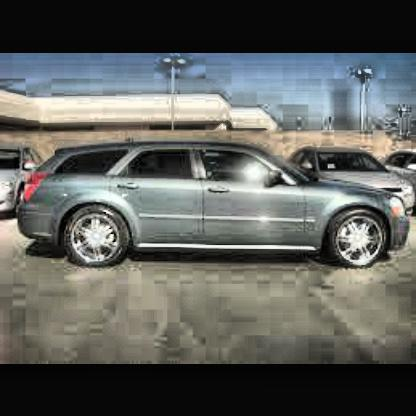Dodge Magnum Wagon 2008: (14, 139, 410, 269)
